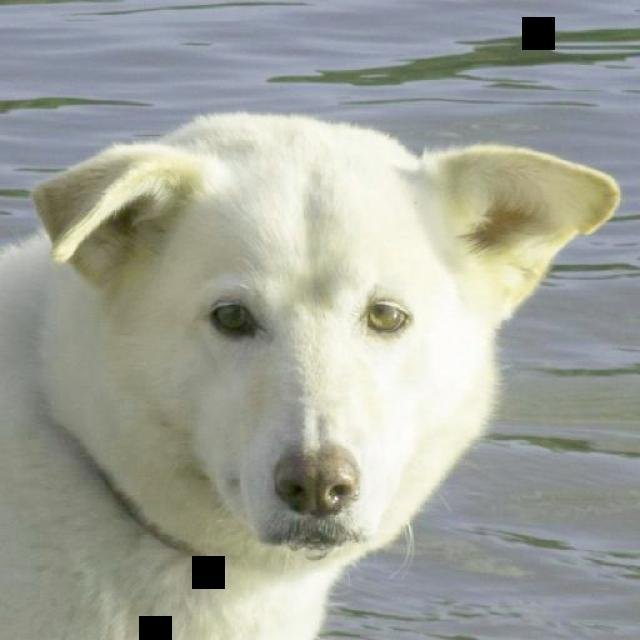adult_dog: (1, 110, 626, 640)
